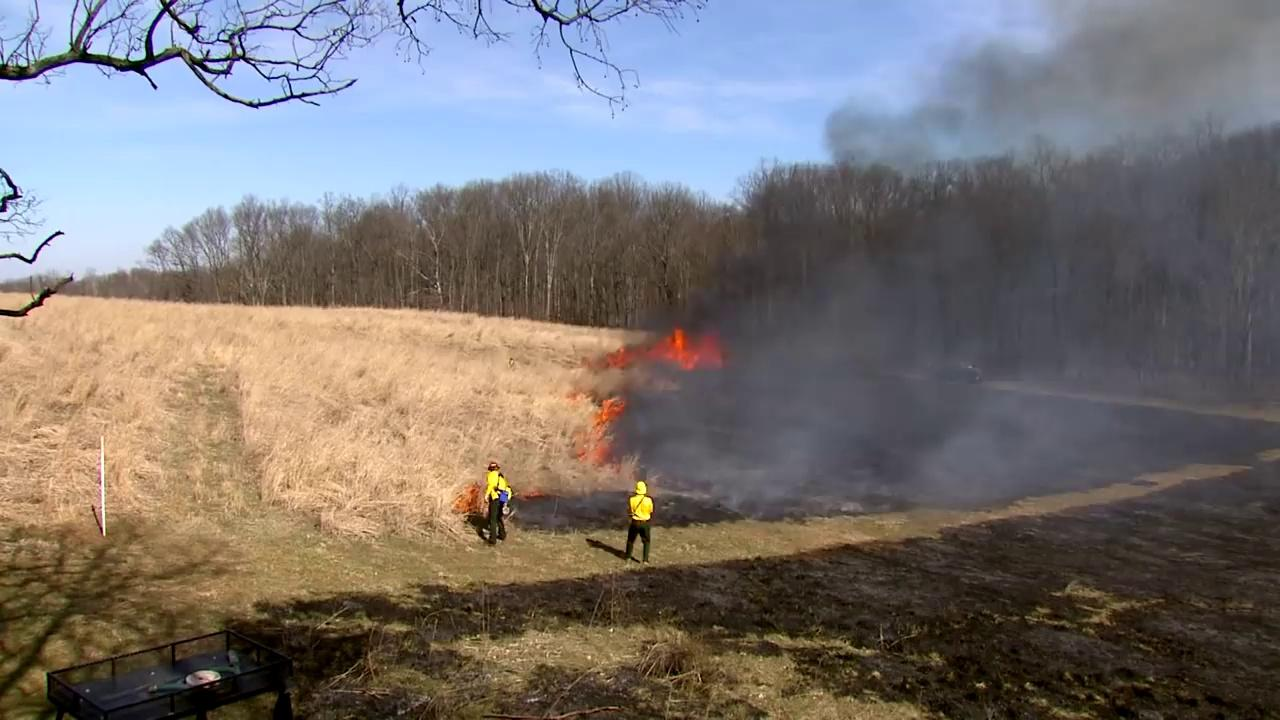Fire: (601, 330, 721, 371), (454, 482, 483, 513), (597, 397, 625, 423)
